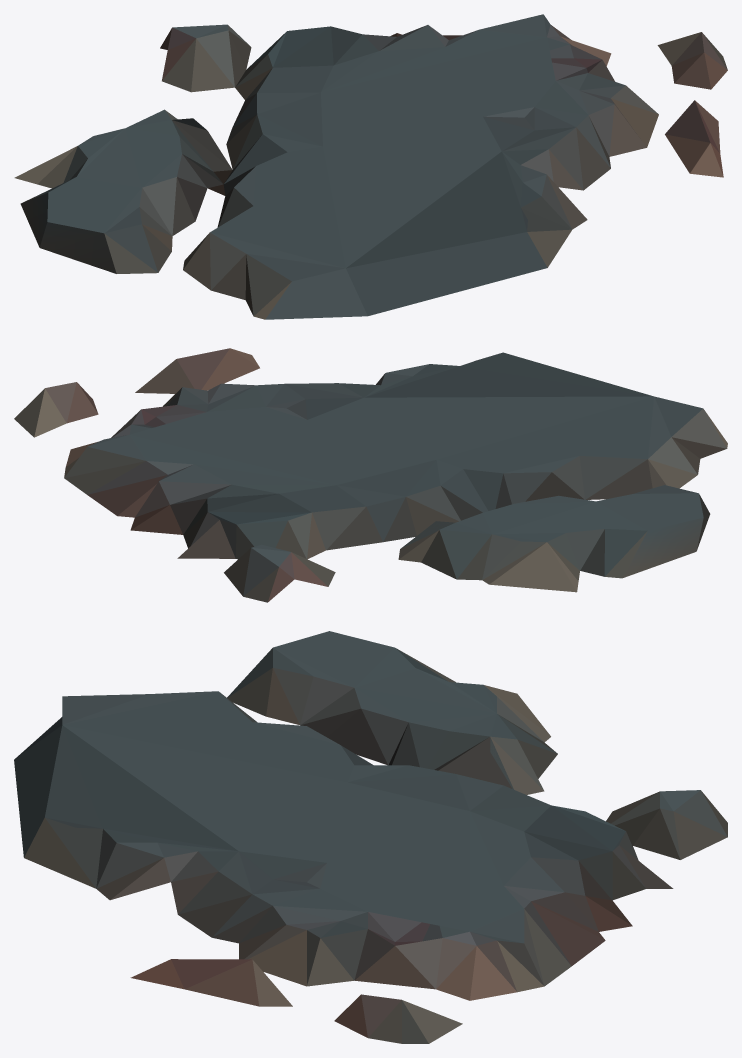
File: Volcanic_E.fbx
The picture shows the model from 3 angles, top to bottom: view 1: azimuth 30°, elevation 25°; view 2: azimuth 150°, elevation 25°; view 3: azimuth 270°, elevation 25°; orthographic projection. The views are drawn at different scales.
Parts seen in each view (by area): view 1: Volcanic_E; view 2: Volcanic_E; view 3: Volcanic_E.
Part boxes in pixels (box(x1,y1,x2,y2)): Volcanic_E: box(14, 14, 727, 319); Volcanic_E: box(14, 348, 727, 602); Volcanic_E: box(14, 631, 727, 1043).
Bounding box in the file's own units: 6588 × 282 × 5256.
